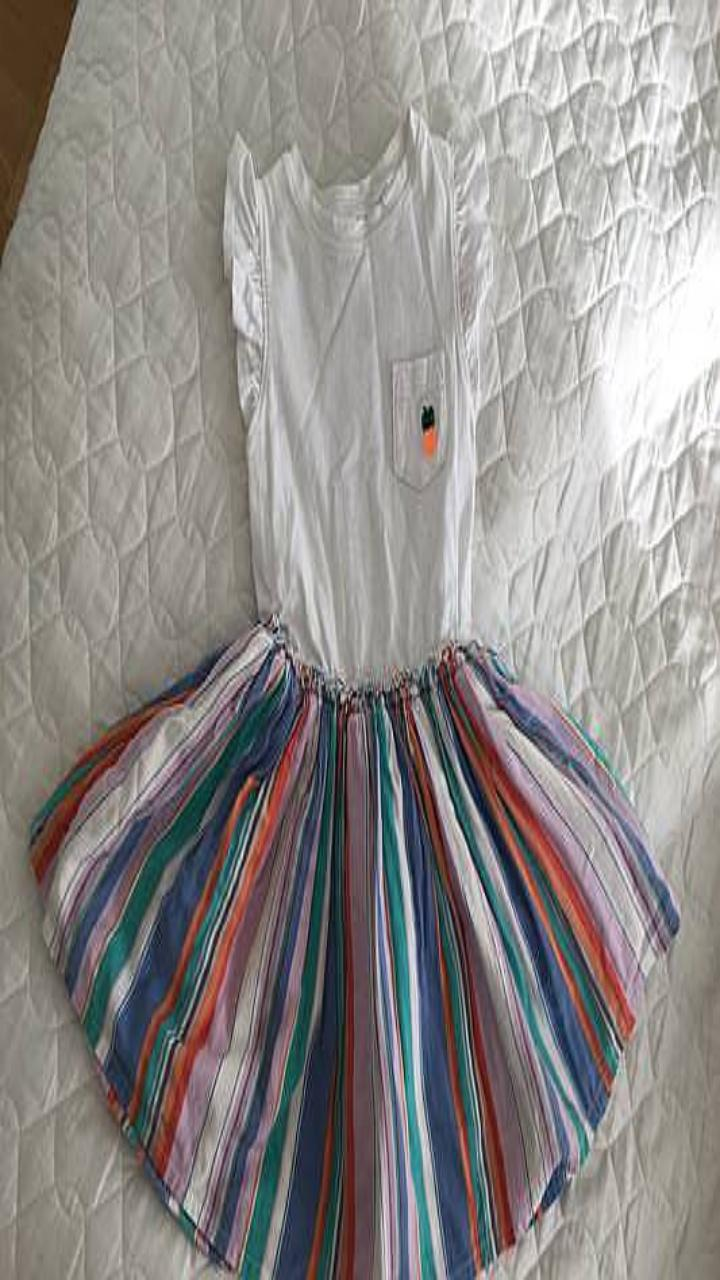Dresses: (31, 107, 678, 1279)
T-Shirt: (224, 105, 491, 682)
